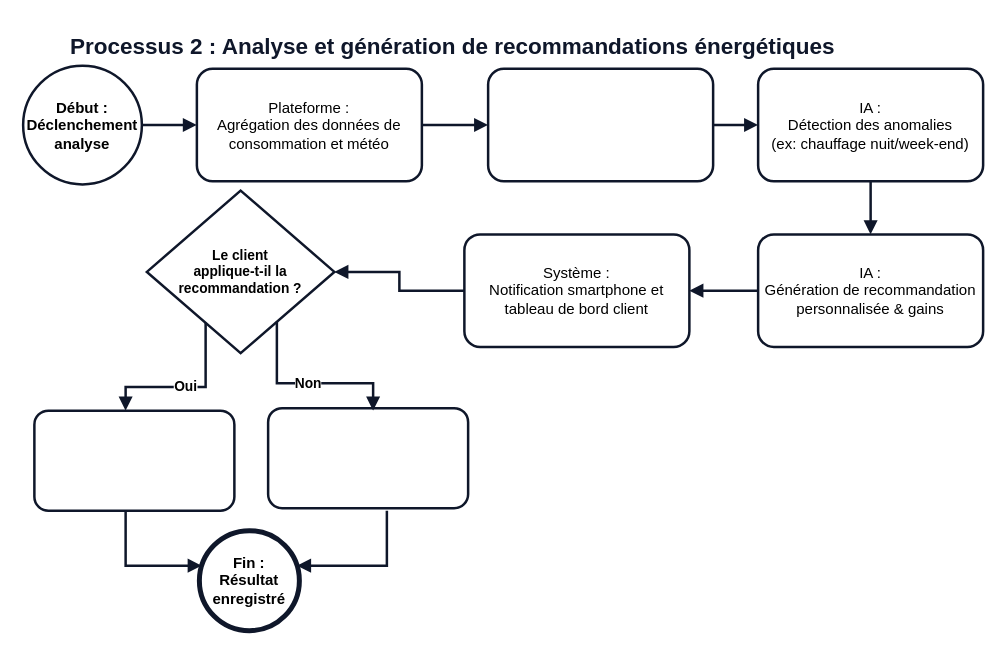
Image size: 1005x654. Some labels were removed from this diagram. Here are the shapes that lost their labels. From the top down, the centre of each, then its label:
(600,124): IA : Analyse comparative avec les profils types du bâtiment
(133,460): Client : Réglage appliqué (ex: baisse consigne)
(367,457): Client : Recommandation reportée ou ignorée
